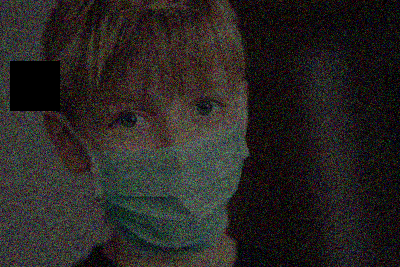with_mask: (87, 78, 246, 247)
